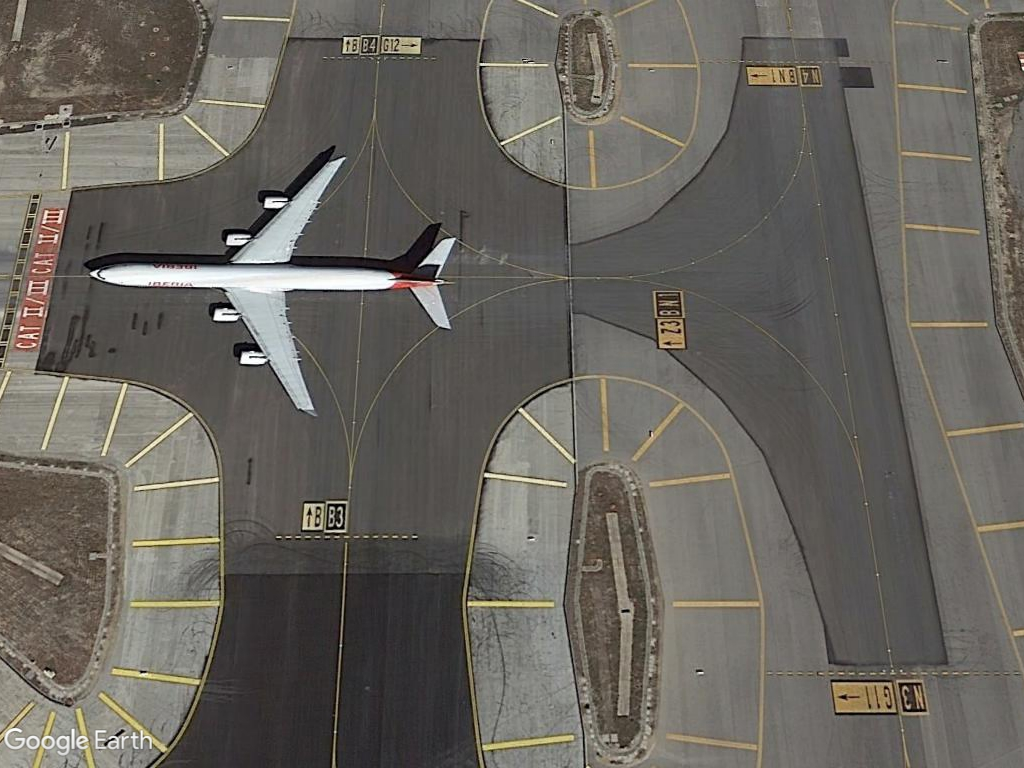airliner: (81, 149, 463, 423)
